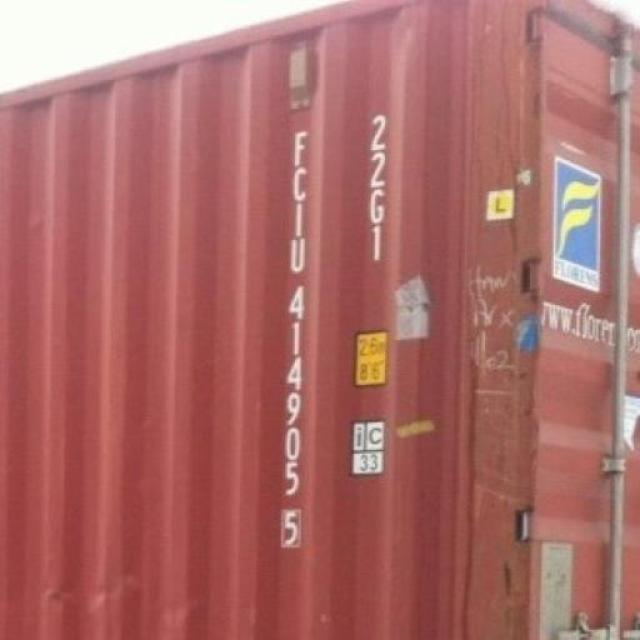ISO: (366, 114, 388, 261)
container_number: (280, 120, 310, 558)
